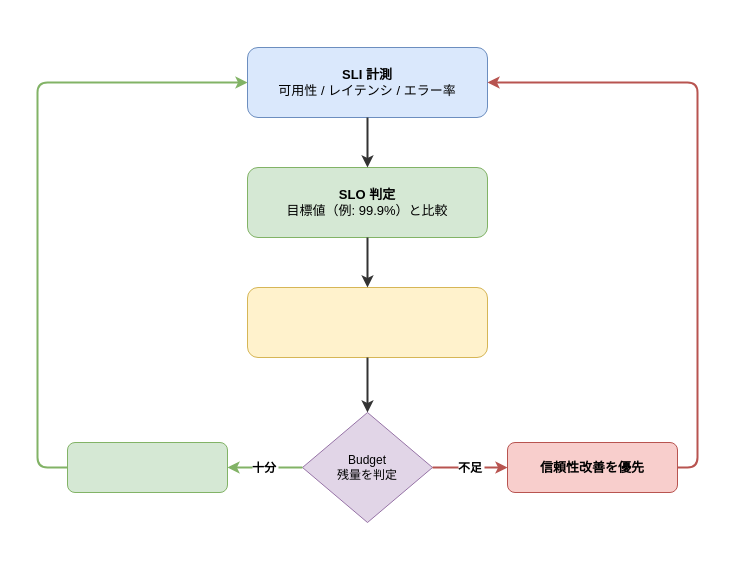
This 734x584 diagram has some shape labels left out. The shapes that lost their labels are listed below. From the top down, each one's centre as x and y in pixels, then its label:
pixel 367 322: Error Budget 算出 100% − SLO = 許容障害量
pixel 147 467: 機能開発を加速
